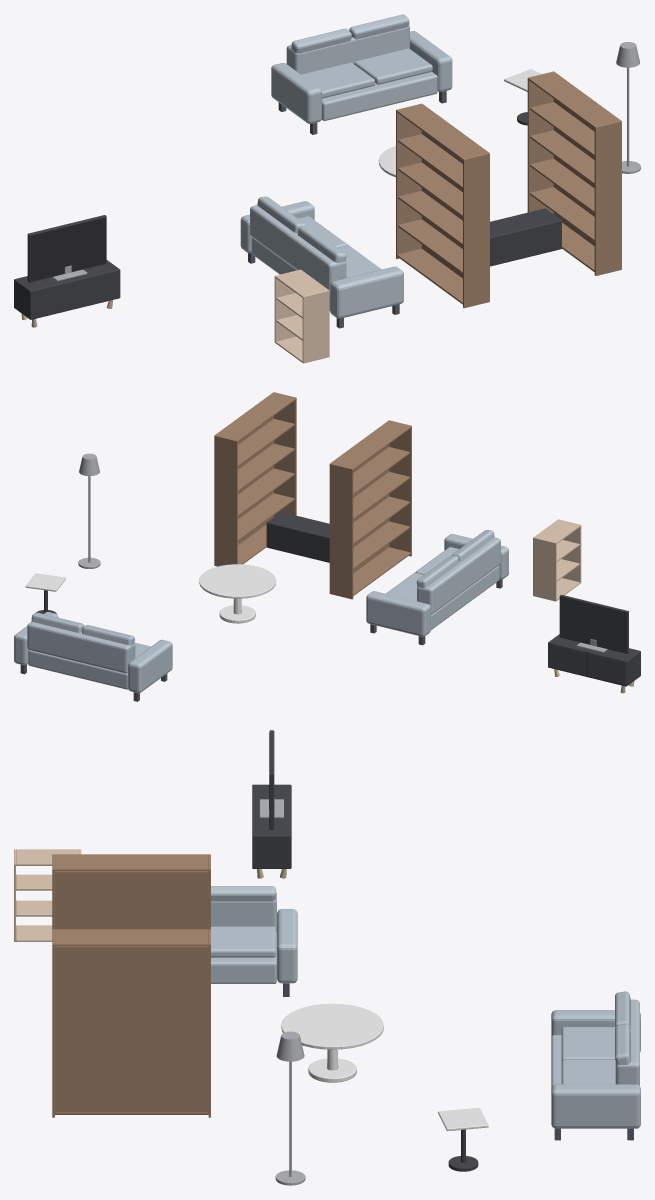
Rendered from agent_scene.glb.
3 views of the same model, one above another, from view 1: azimuth 30°, elevation 25°; view 2: azimuth 150°, elevation 25°; view 3: azimuth 270°, elevation 25° (orthographic). The views are drawn at different scales.
Parts seen in each view (by area): view 1: BookcaseB_sideL, BookcaseA_sideL, TVBench_body.001, TV_face, TVBench_body, SofaA_back, SofaA_arm1, SofaB_base, SofaB_back, BookcaseA_sideR, BookcaseB_sideR, SofaB_arm1 (+29 smaller); view 2: BookcaseA_sideR, SofaB_back, BookcaseB_sideR, TV_bezel, TVBench_body, SofaA_back, SofaA_arm0, CoffeeTable_top, BookcaseA_sideL, SofaB_base, SofaB_arm1, BookcaseB_sideL (+30 smaller); view 3: BookcaseB_back, BookcaseA_back, SofaB_arm0, CoffeeTable_top, TVBench_body.001, BookcaseA_top, BookcaseB_top, SofaA_seat0, SofaA_base, SofaB_seat1, SofaA_back, SofaA_arm0 (+8 smaller).
Part boxes in pixels (box(x1,y1,x2,y2)): BookcaseB_sideL: box(594, 120, 621, 275); BookcaseA_sideL: box(463, 152, 489, 308); TVBench_body.001: box(14, 260, 120, 319); TV_face: box(30, 217, 105, 281); TVBench_body: box(490, 208, 561, 266); SofaA_back: box(250, 205, 346, 293); SofaA_arm1: box(330, 266, 403, 318); SofaB_base: box(321, 71, 437, 120); SofaB_back: box(286, 25, 409, 74); BookcaseA_sideR: box(396, 103, 422, 259); BookcaseB_sideR: box(527, 71, 554, 213); SofaB_arm1: box(271, 63, 321, 123); BookcaseA_sideR: box(329, 463, 353, 599); SofaB_back: box(27, 621, 135, 673); BookcaseB_sideR: box(214, 435, 237, 566); TV_bezel: box(559, 594, 628, 653); TVBench_body: box(266, 512, 329, 562); SofaA_back: box(417, 537, 500, 614); SofaA_arm0: box(366, 591, 430, 636); CoffeeTable_top: box(199, 564, 276, 598); BookcaseA_sideL: box(388, 420, 411, 556); SofaB_base: box(28, 650, 128, 689); SofaB_arm1: box(128, 639, 172, 693); BookcaseB_sideL: box(273, 392, 296, 516); BookcaseB_back: box(55, 946, 208, 1114); BookcaseA_back: box(55, 871, 208, 929); SofaB_arm0: box(551, 1084, 640, 1128); CoffeeTable_top: box(281, 1003, 383, 1049); TVBench_body.001: box(252, 784, 291, 868); BookcaseA_top: box(55, 854, 208, 871); BookcaseB_top: box(55, 929, 208, 946); SofaA_seat0: box(211, 926, 275, 957); SofaA_base: box(211, 931, 276, 983); SofaB_seat1: box(561, 1027, 615, 1061); SofaA_back: box(211, 892, 276, 931); SofaA_arm0: box(277, 909, 297, 983).
Size of what is drawn, in the model's own units: 9.01 by 2.06 by 6.71.
